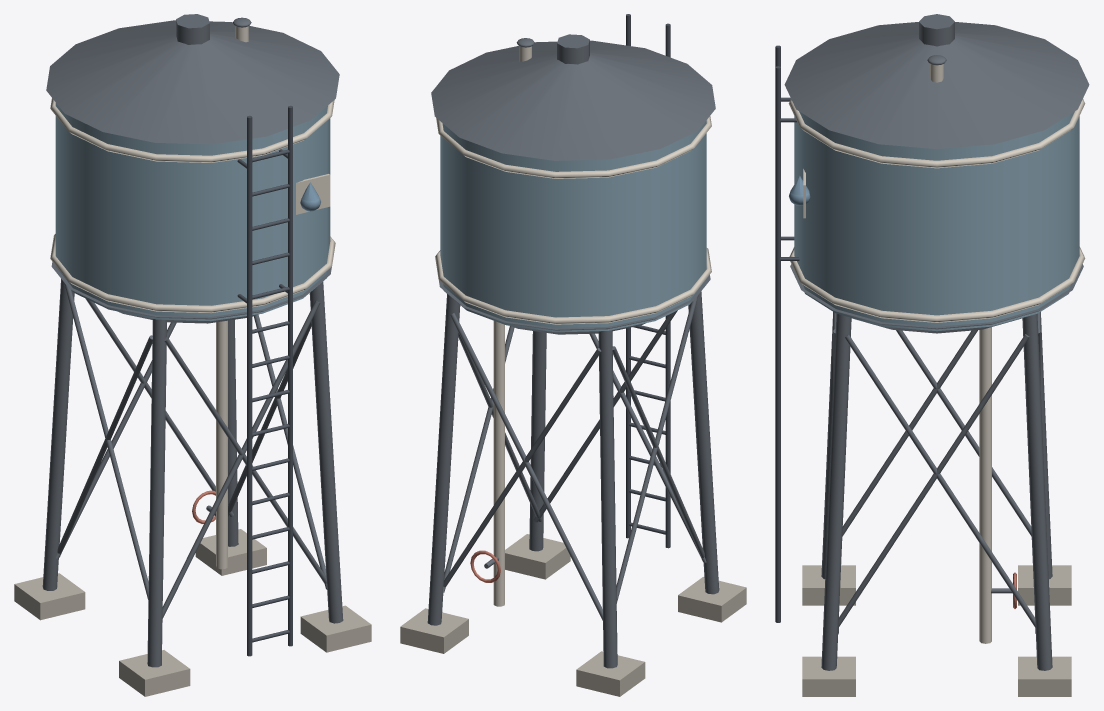
Rendered from komachi-water-tower.glb.
3 views of the same model, side by side, from view 1: azimuth 30°, elevation 25°; view 2: azimuth 150°, elevation 25°; view 3: azimuth 270°, elevation 25° (orthographic). The views are drawn at different scales.
Visible parts, largest first — view 1: Water_Tower; view 2: Water_Tower; view 3: Water_Tower.
Part boxes in pixels (bbox=[...]): Water_Tower: bbox=[14, 14, 371, 696]; Water_Tower: bbox=[400, 14, 746, 696]; Water_Tower: bbox=[775, 14, 1089, 696].
Bounding box in the file's own units: 0.438 × 0.98 × 0.451.
